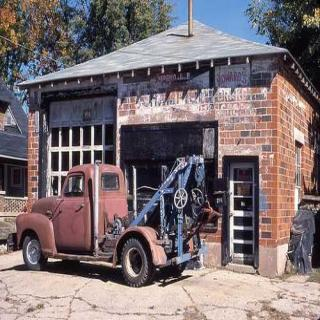Towing_truck: (14, 153, 221, 287)
